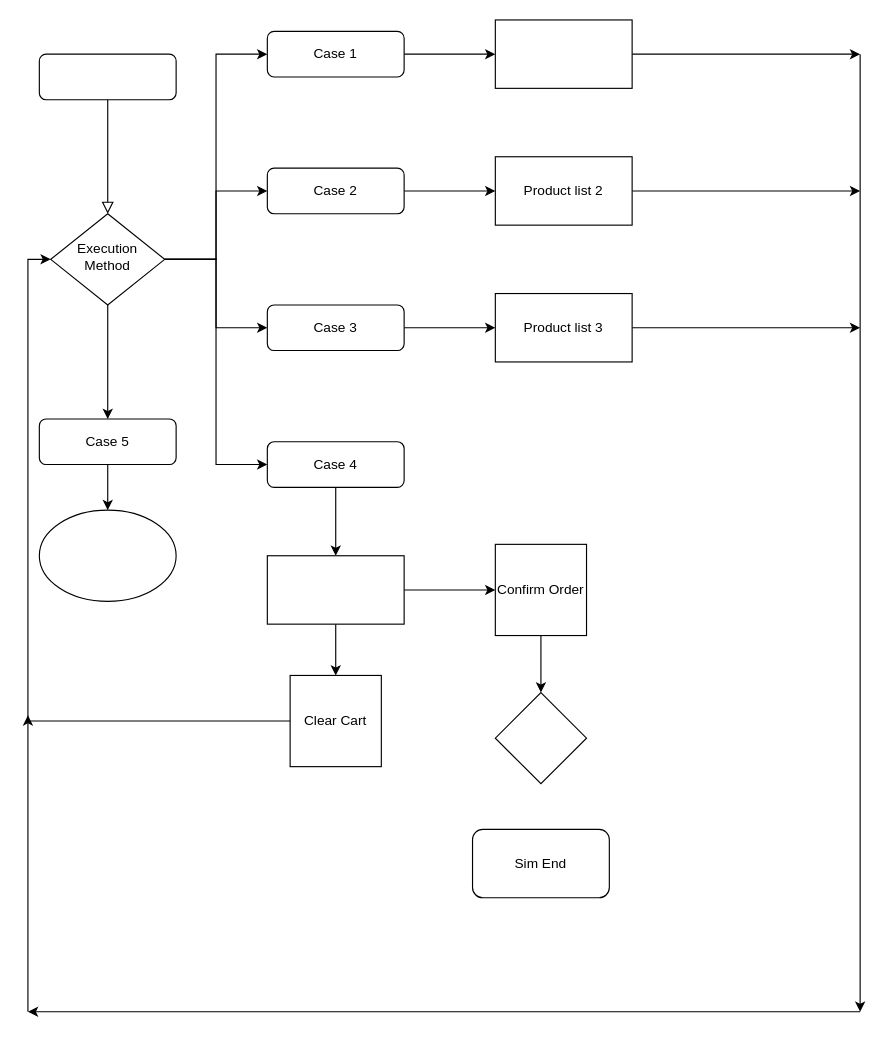
The diagram is 889 pixels wide and 1041 high, and some of its shapes have lost their labels. Each missing label, with the centre of its shape:
"Login" belongs at [107,76].
"Logout" belongs at [107,555].
"Payment Method" belongs at [540,737].
"Product list 1" belongs at [563,53].
"Shopping Cart" belongs at [335,589].
